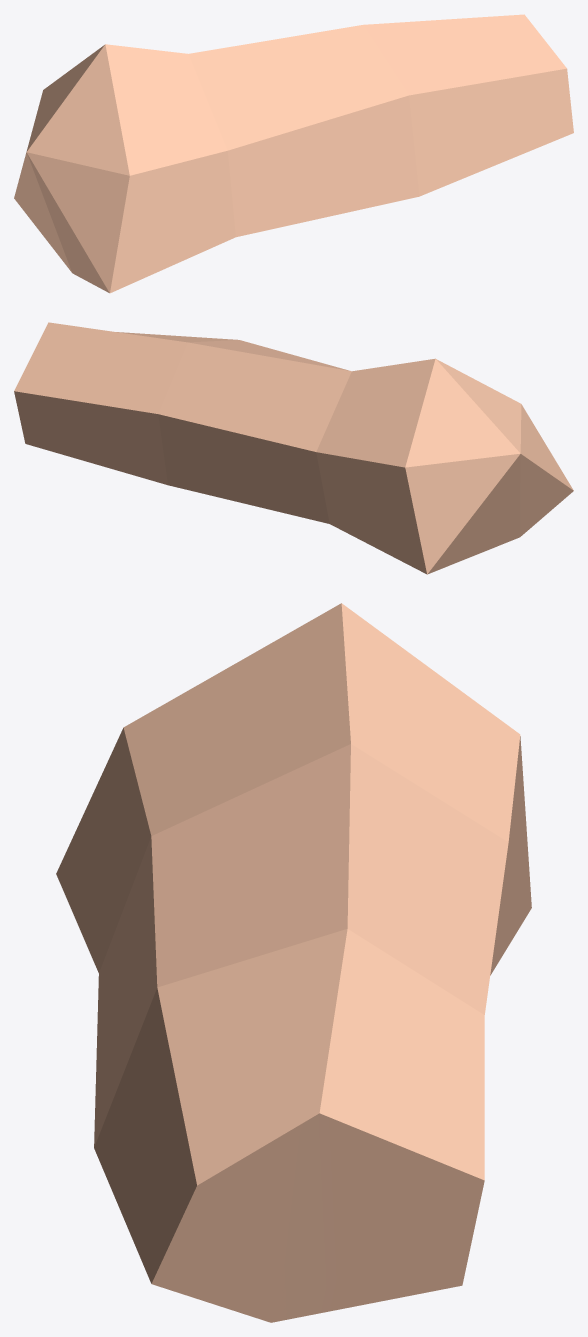
File: Chr_ArmUpperLeft_Male_00_Static.fbx
3 views of the same model, one above another, from view 1: azimuth 30°, elevation 25°; view 2: azimuth 150°, elevation 25°; view 3: azimuth 270°, elevation 25° (orthographic). The views are drawn at different scales.
Visible parts, largest first — view 1: Chr_ArmUpperLeft_Male_00_Static; view 2: Chr_ArmUpperLeft_Male_00_Static; view 3: Chr_ArmUpperLeft_Male_00_Static.
Part boxes in pixels (x1,y1,x2,y2): Chr_ArmUpperLeft_Male_00_Static: (14,14,573,293); Chr_ArmUpperLeft_Male_00_Static: (14,322,573,574); Chr_ArmUpperLeft_Male_00_Static: (56,603,531,1322).
Size of the model in its own units: 0.3345 by 0.123 by 0.1429.
